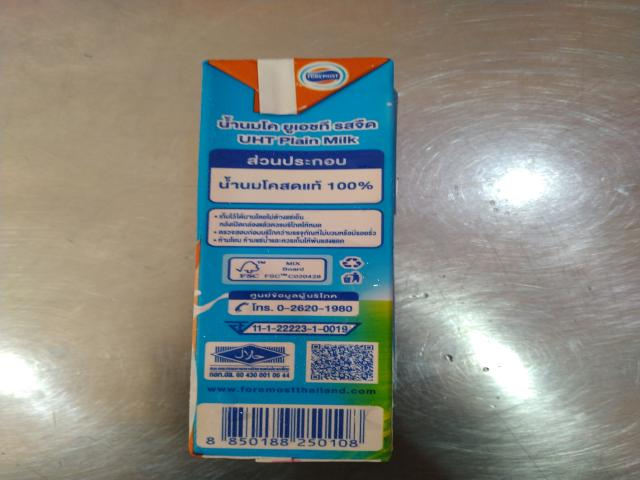drink_box: (176, 44, 449, 473)
